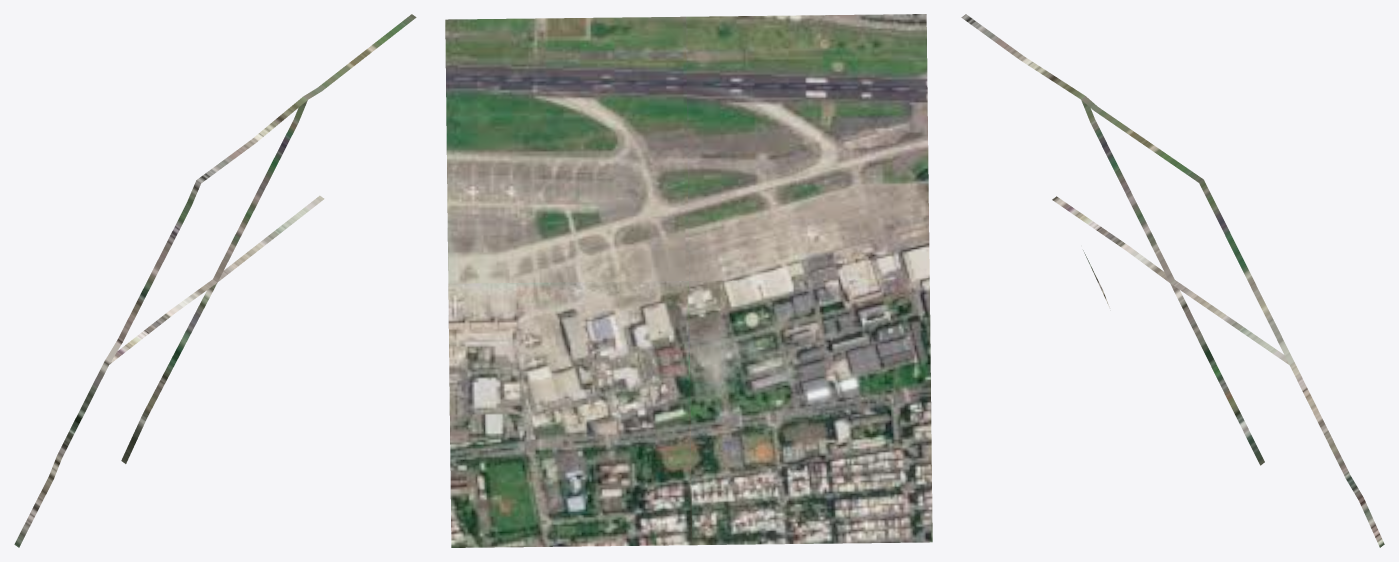
3 renders of one model, left to right at view 1: azimuth 30°, elevation 25°; view 2: azimuth 150°, elevation 25°; view 3: azimuth 270°, elevation 25°, orthographic. The views are drawn at different scales.
Bounding box in the file's own units: 1221 × 1112 × 1028.
1 material, 1 textured.
